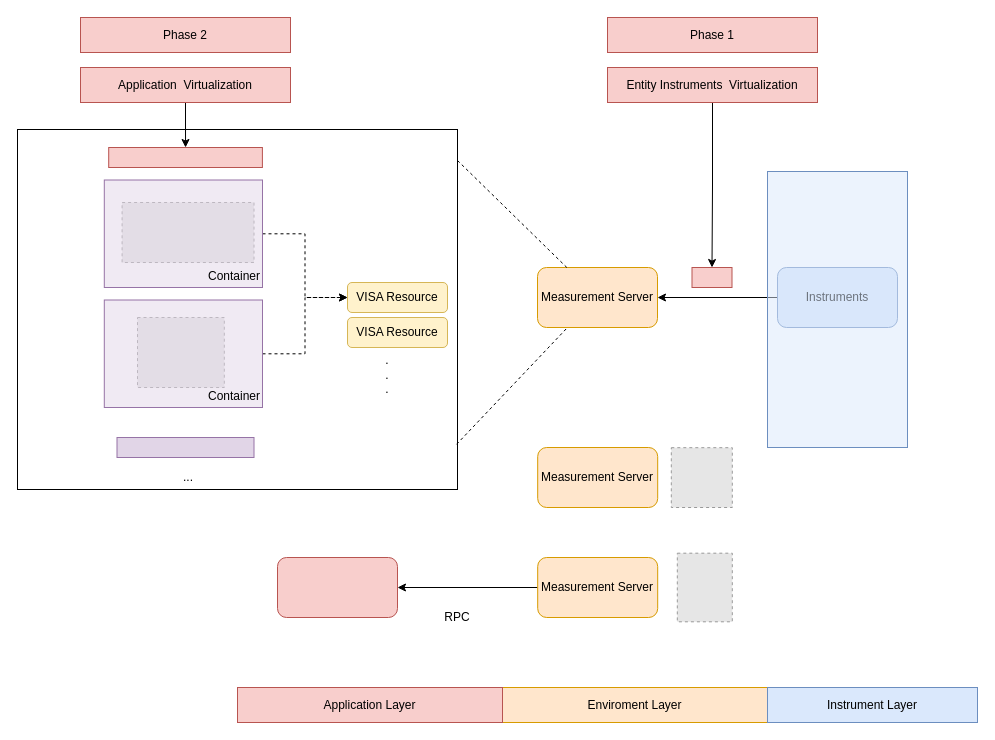
Image size: 995x740. Some labels were removed from this diagram. Grey dashed boxes stand in for pictures. Each missing label, with the centre of its shape:
"Instruments Cluster" goes at (837,309).
"Namespace & Packaging" goes at (185,157).
"Other Containers" goes at (185,447).
"VISA" goes at (711,277).
"Web Server" goes at (337,587).
